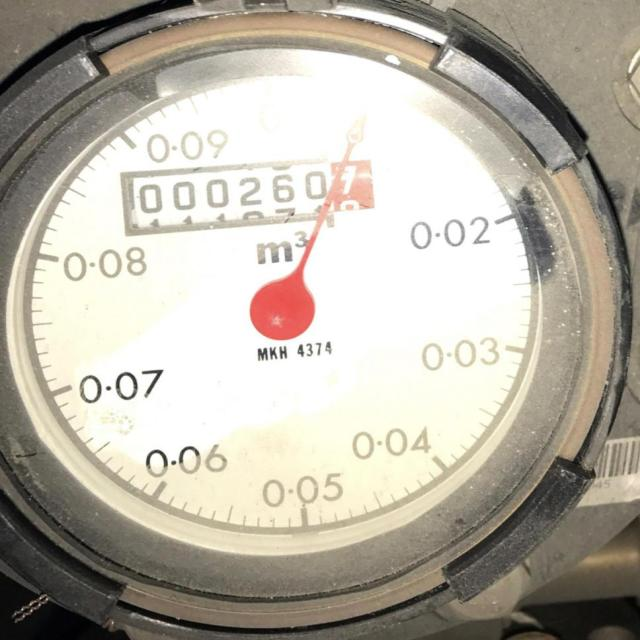gaz_meter: (7, 75, 542, 558)
indication: (120, 154, 378, 237)
